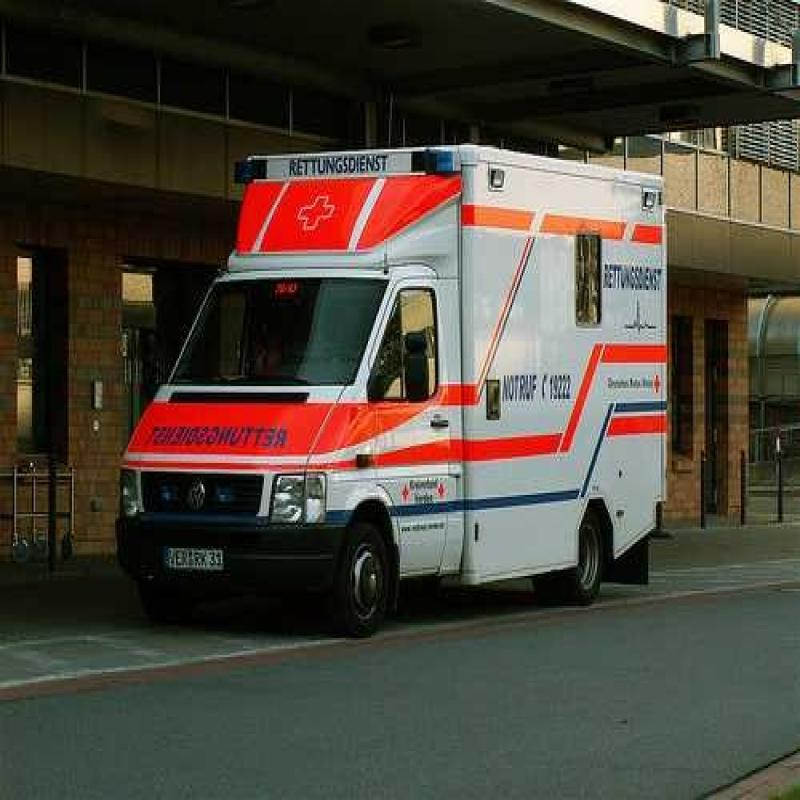AmbulanceSiren: (239, 107, 458, 205)
